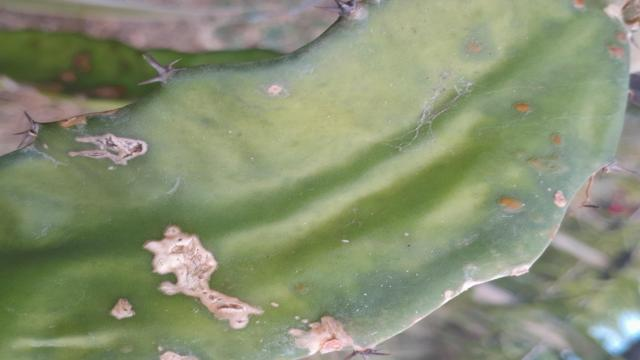stemcanker: (493, 191, 528, 217), (542, 186, 574, 212), (506, 96, 537, 118), (109, 297, 137, 321), (256, 81, 288, 99), (542, 131, 567, 150), (288, 279, 312, 297)
